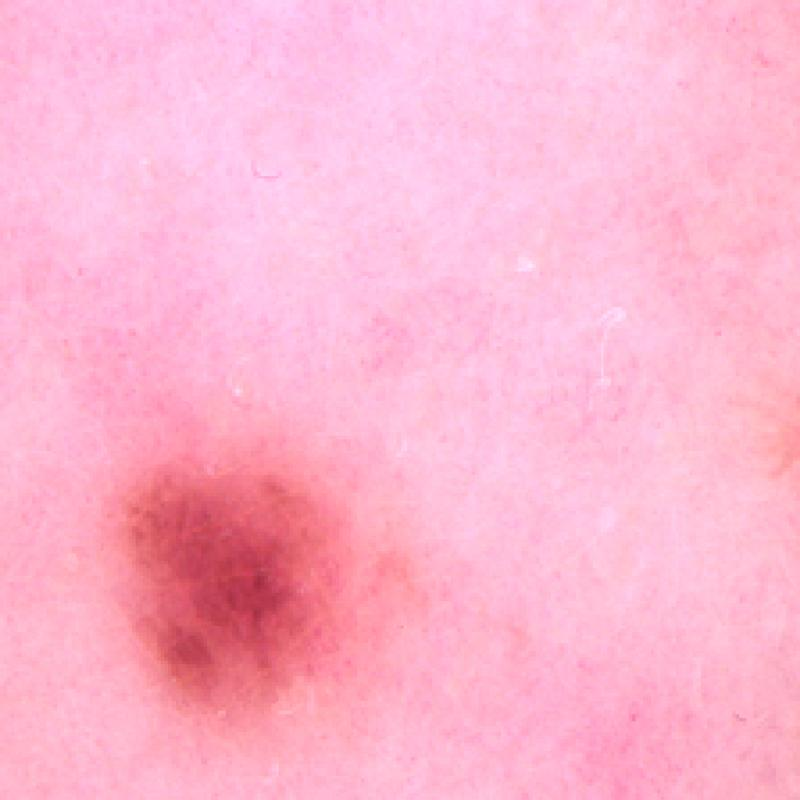benign: (107, 445, 354, 722)
